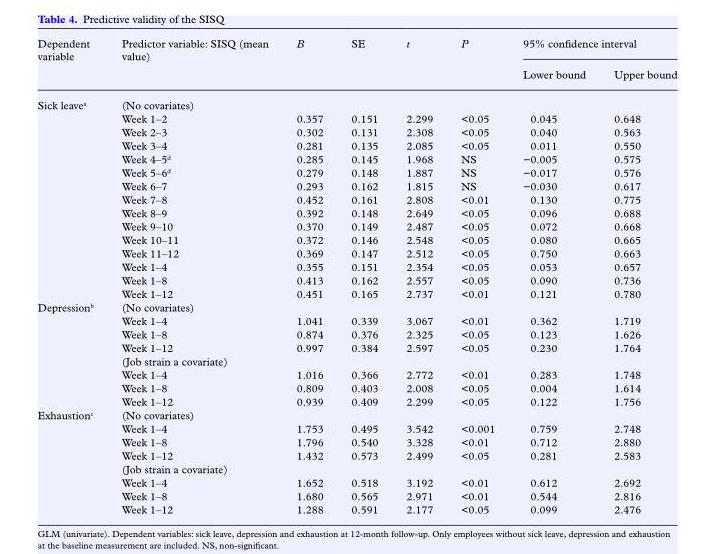table: (36, 36, 676, 515)
table column: (106, 36, 281, 515), (508, 36, 599, 515), (599, 36, 676, 515), (36, 36, 106, 515), (446, 36, 508, 515), (281, 36, 336, 515), (336, 36, 391, 515), (391, 36, 446, 515)
table column header: (36, 36, 676, 89)
table row: (36, 58, 676, 89), (36, 36, 676, 58), (36, 89, 676, 111), (36, 111, 676, 125), (36, 151, 676, 165), (36, 178, 676, 192), (36, 205, 676, 219), (36, 232, 676, 246), (36, 259, 676, 273), (36, 286, 676, 300), (36, 313, 676, 327), (36, 340, 676, 354), (36, 367, 676, 381), (36, 394, 676, 408), (36, 434, 676, 448), (36, 461, 676, 475), (36, 488, 676, 502), (36, 125, 676, 138), (36, 138, 676, 151), (36, 165, 676, 178), (36, 192, 676, 205), (36, 219, 676, 232), (36, 246, 676, 259), (36, 273, 676, 286), (36, 300, 676, 313), (36, 327, 676, 340), (36, 354, 676, 367), (36, 381, 676, 394), (36, 408, 676, 421), (36, 421, 676, 434), (36, 448, 676, 461), (36, 475, 676, 488), (36, 502, 676, 515)
table spanning cell: (36, 89, 106, 300), (106, 36, 281, 89), (36, 300, 106, 408), (36, 408, 106, 515), (36, 36, 106, 89), (508, 36, 676, 58), (446, 36, 508, 89), (281, 36, 336, 89), (336, 36, 391, 89), (391, 36, 446, 89)
